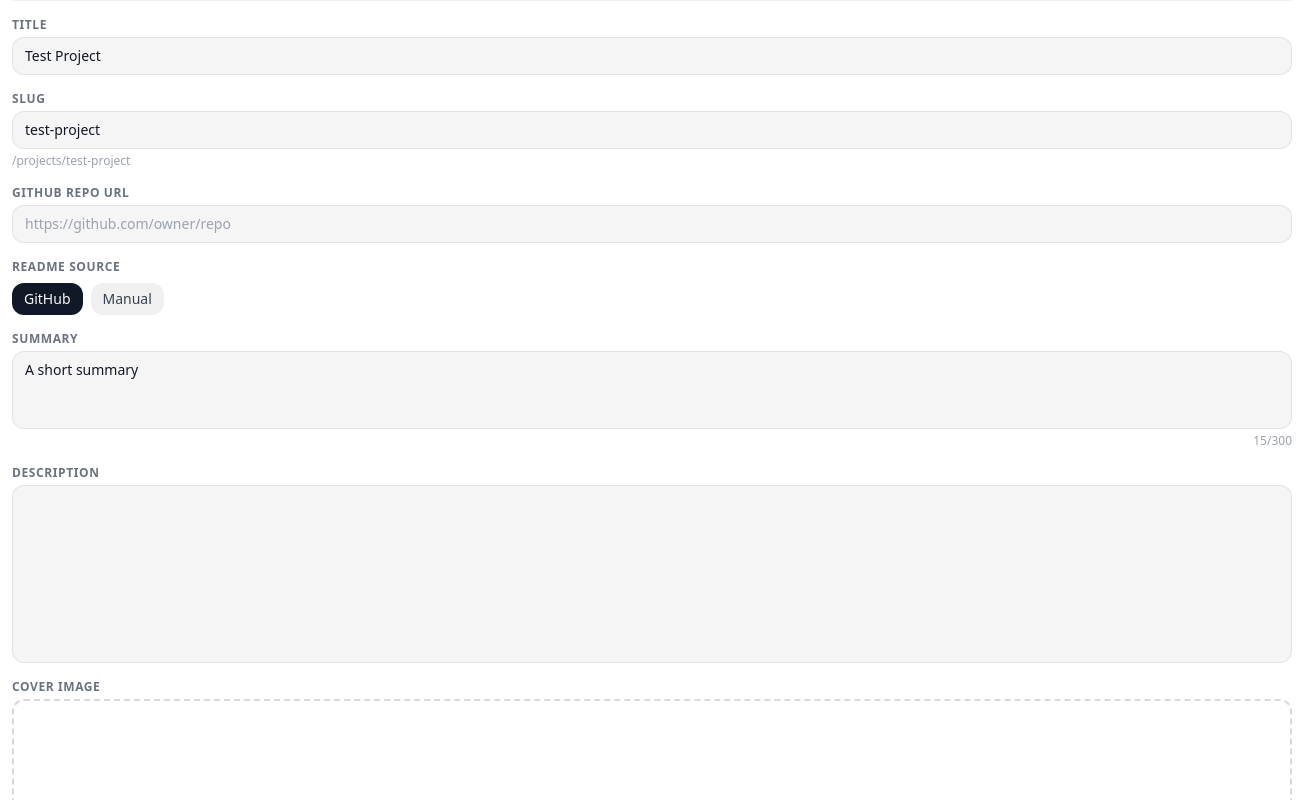
Test: ProjectForm - manual README › switching back to GitHub hides the textarea
Step 1. Click the button "Manual" → (127, 299), box [90,283,164,315]
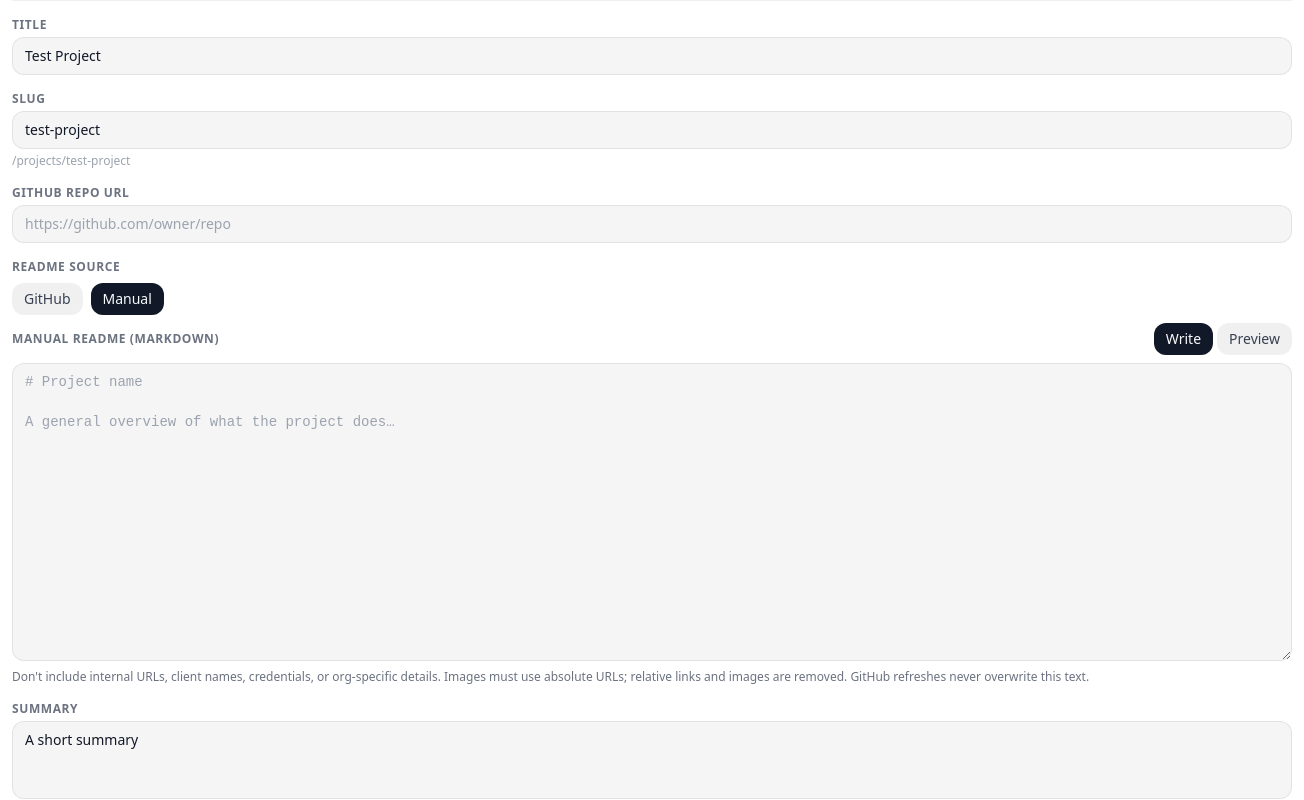
Step 2. Click the button "GitHub" → (47, 299), box [12,283,82,315]
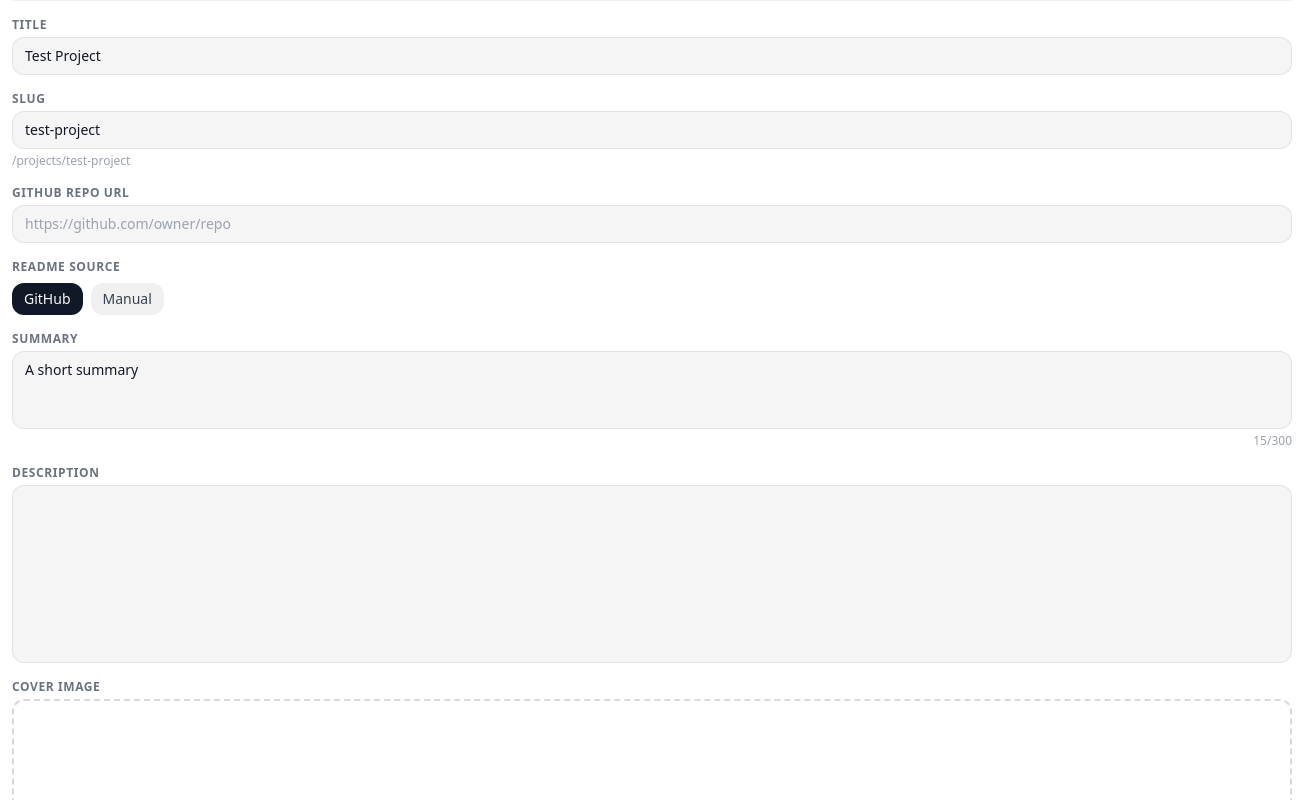
Result: the label labelled "Manual README (Markdown)" is gone
